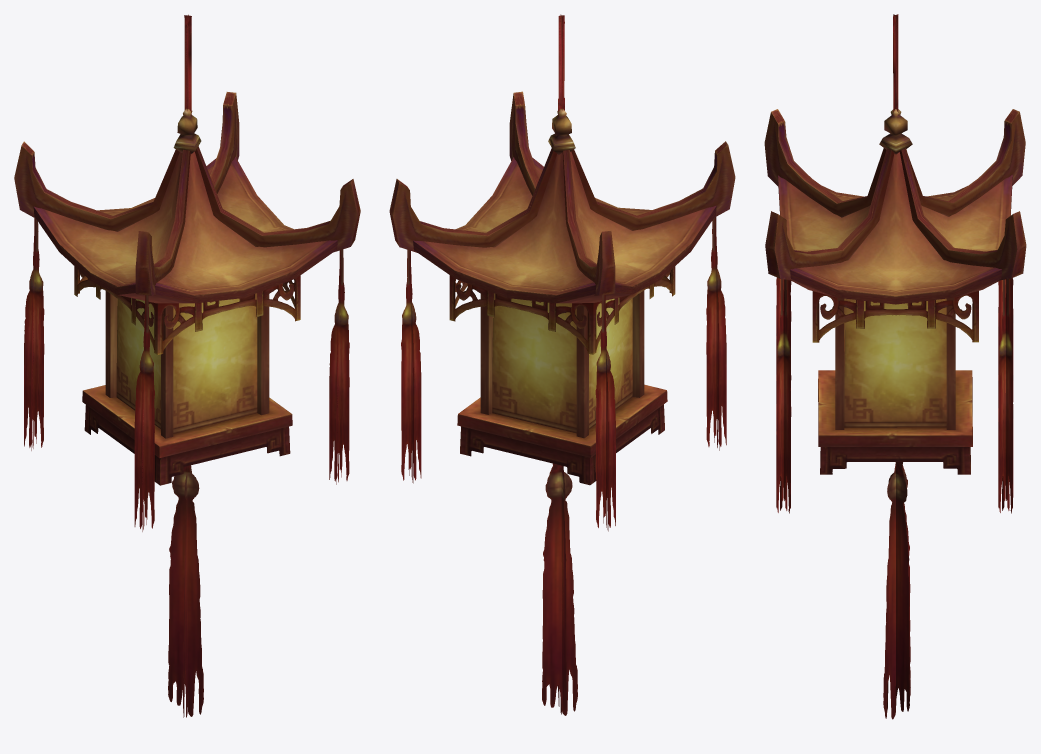
Rendered from ZYthi_gg_denglong02.FBX.
3 views of the same model, side by side, from view 1: azimuth 30°, elevation 25°; view 2: azimuth 150°, elevation 25°; view 3: azimuth 270°, elevation 25° (orthographic).
Parts seen in each view (by area): view 1: ZYthi_gg_denglong02; view 2: ZYthi_gg_denglong02; view 3: ZYthi_gg_denglong02.
Part boxes in pixels (x1,y1,x2,y2): ZYthi_gg_denglong02: [14, 14, 360, 717]; ZYthi_gg_denglong02: [389, 14, 735, 715]; ZYthi_gg_denglong02: [764, 14, 1026, 719].
Size of the model in its own units: 62.58 by 189 by 62.58.
